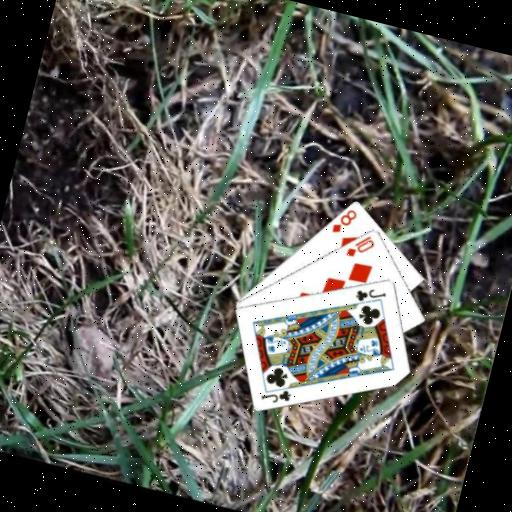10D: (343, 228, 378, 263)
8D: (328, 202, 360, 239)
JC: (351, 281, 389, 309), (257, 381, 294, 409)
